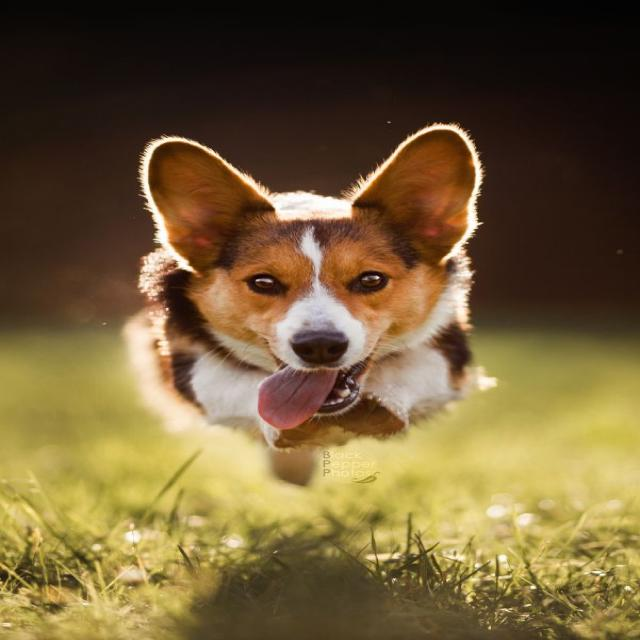dog: (84, 106, 525, 460)
